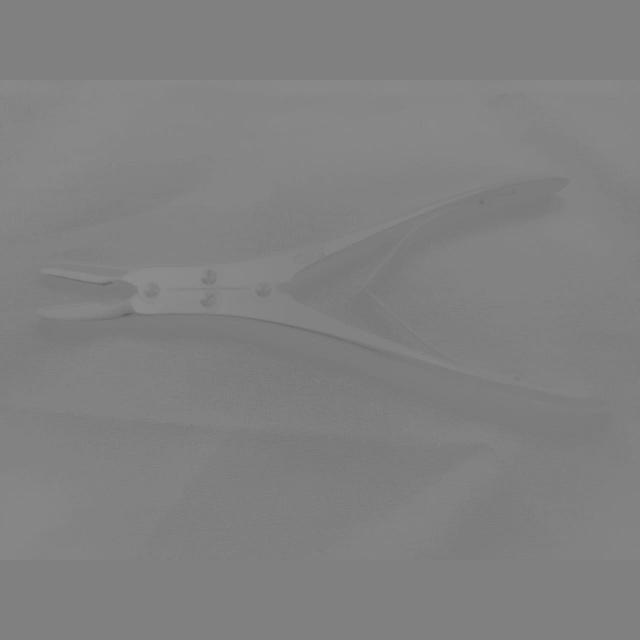gubia: (47, 175, 610, 405)
